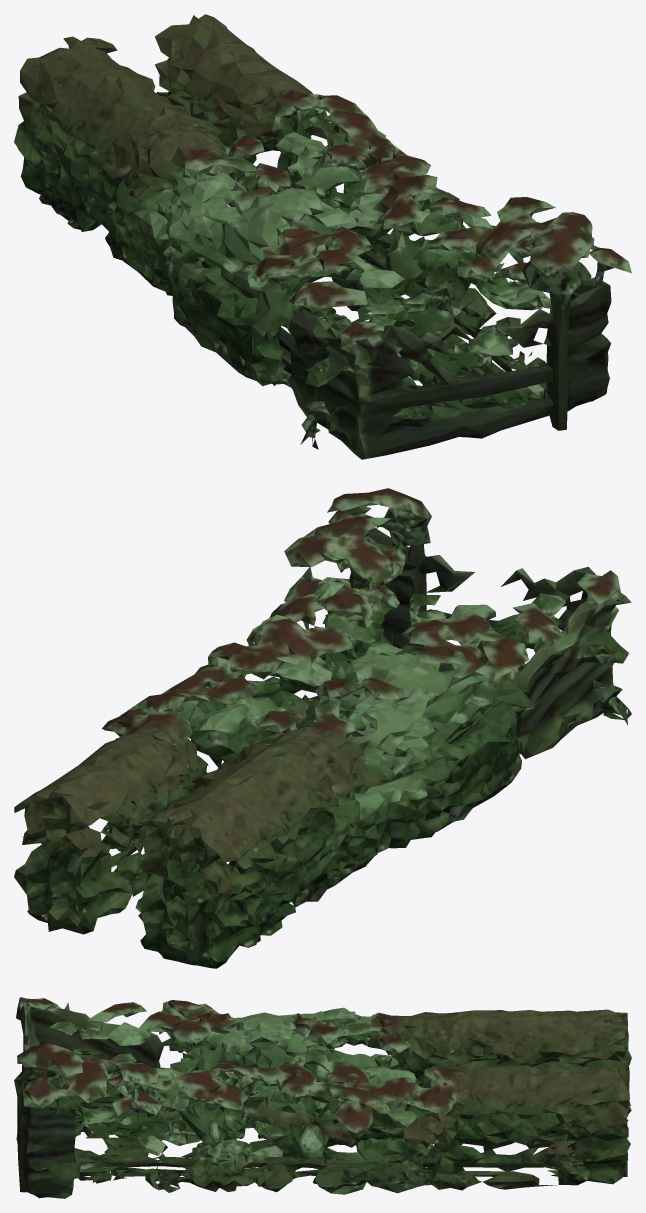
File: bog_flowers_01.glb
3 renders of one model, top to bottom at view 1: azimuth 30°, elevation 25°; view 2: azimuth 150°, elevation 25°; view 3: azimuth 270°, elevation 25°, orthographic. The views are drawn at different scales.
Parts seen in each view (by area): view 1: geometry_0; view 2: geometry_0; view 3: geometry_0.
Boxes of the visible parts, left/top/right/bottom form: geometry_0: left=14, top=14, right=631, bottom=459; geometry_0: left=14, top=488, right=631, bottom=968; geometry_0: left=14, top=997, right=631, bottom=1198.
Size of the model in its own units: 0.4734 by 0.2701 by 0.9995.
Materials: 1 (1 with a texture image).
